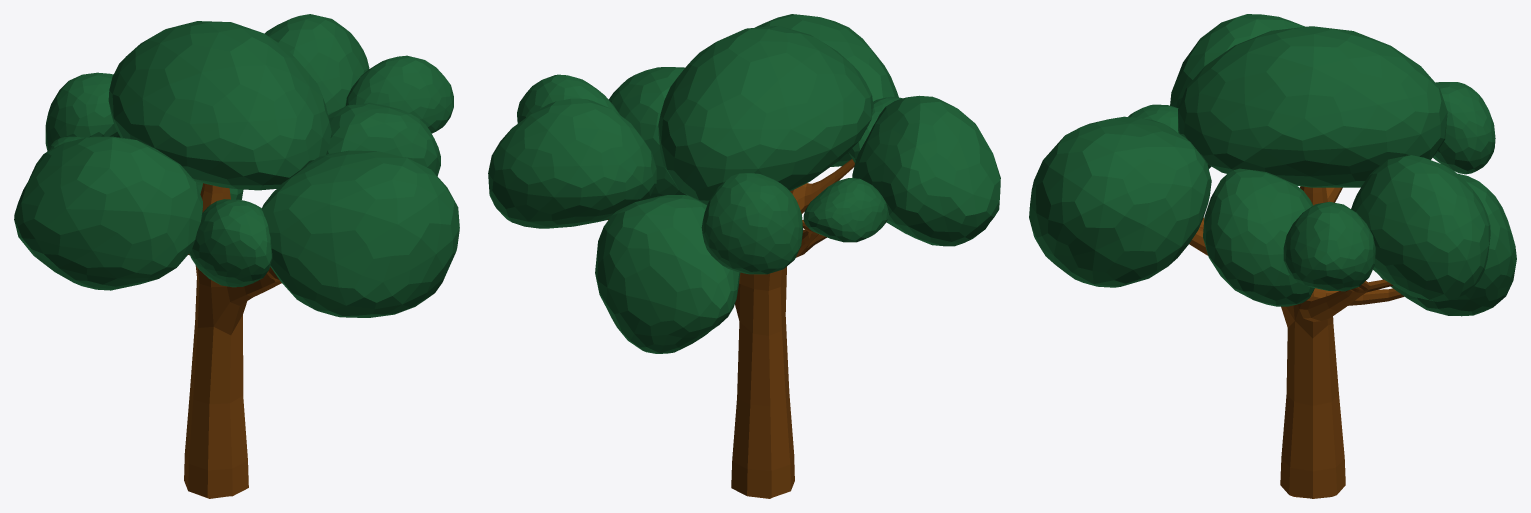
Rendered from tree_main.glb.
3 views of the same model, side by side, from view 1: azimuth 30°, elevation 25°; view 2: azimuth 150°, elevation 25°; view 3: azimuth 270°, elevation 25° (orthographic). The views are drawn at different scales.
Visible parts, largest first — view 1: Icosphere, Icosphere.004, Icosphere.007, Trunk, Icosphere.008, Icosphere.003, Icosphere.001, Icosphere.002, Icosphere.006; view 2: Icosphere, Icosphere.003, Icosphere.009, Icosphere.007, Trunk, Icosphere.006, Icosphere.005, Icosphere.001, Icosphere.004, Icosphere.002, Icosphere.008; view 3: Icosphere, Icosphere.004, Icosphere.003, Trunk, Icosphere.001, Icosphere.002, Icosphere.009, Icosphere.006, Icosphere.007, Icosphere.008.
Part boxes in pixels (x1,y1,x2,y2): Icosphere: [108, 21, 331, 190]; Icosphere.004: [261, 150, 459, 317]; Icosphere.007: [14, 136, 202, 290]; Trunk: [184, 183, 281, 498]; Icosphere.008: [189, 199, 272, 287]; Icosphere.003: [264, 14, 369, 115]; Icosphere.001: [326, 103, 440, 175]; Icosphere.002: [346, 55, 453, 133]; Icosphere.006: [45, 72, 120, 150]; Icosphere: [658, 25, 873, 205]; Icosphere.003: [488, 98, 656, 228]; Icosphere.009: [595, 195, 740, 353]; Icosphere.007: [852, 95, 1000, 246]; Trunk: [608, 159, 854, 498]; Icosphere.006: [701, 173, 803, 274]; Icosphere.005: [803, 178, 888, 242]; Icosphere.001: [608, 67, 686, 198]; Icosphere.004: [755, 14, 898, 166]; Icosphere.002: [517, 74, 619, 123]; Icosphere.008: [848, 96, 902, 162]; Icosphere: [1178, 26, 1447, 187]; Icosphere.004: [1029, 116, 1211, 287]; Icosphere.003: [1351, 155, 1490, 301]; Trunk: [1189, 186, 1404, 498]; Icosphere.001: [1203, 168, 1314, 306]; Icosphere.002: [1283, 201, 1375, 291]; Icosphere.009: [1378, 173, 1516, 316]; Icosphere.006: [1433, 82, 1495, 174]; Icosphere.007: [1170, 14, 1305, 107]; Icosphere.008: [1128, 104, 1211, 168].
Bounding box in the file's own units: 13.9 × 13.35 × 12.93.
